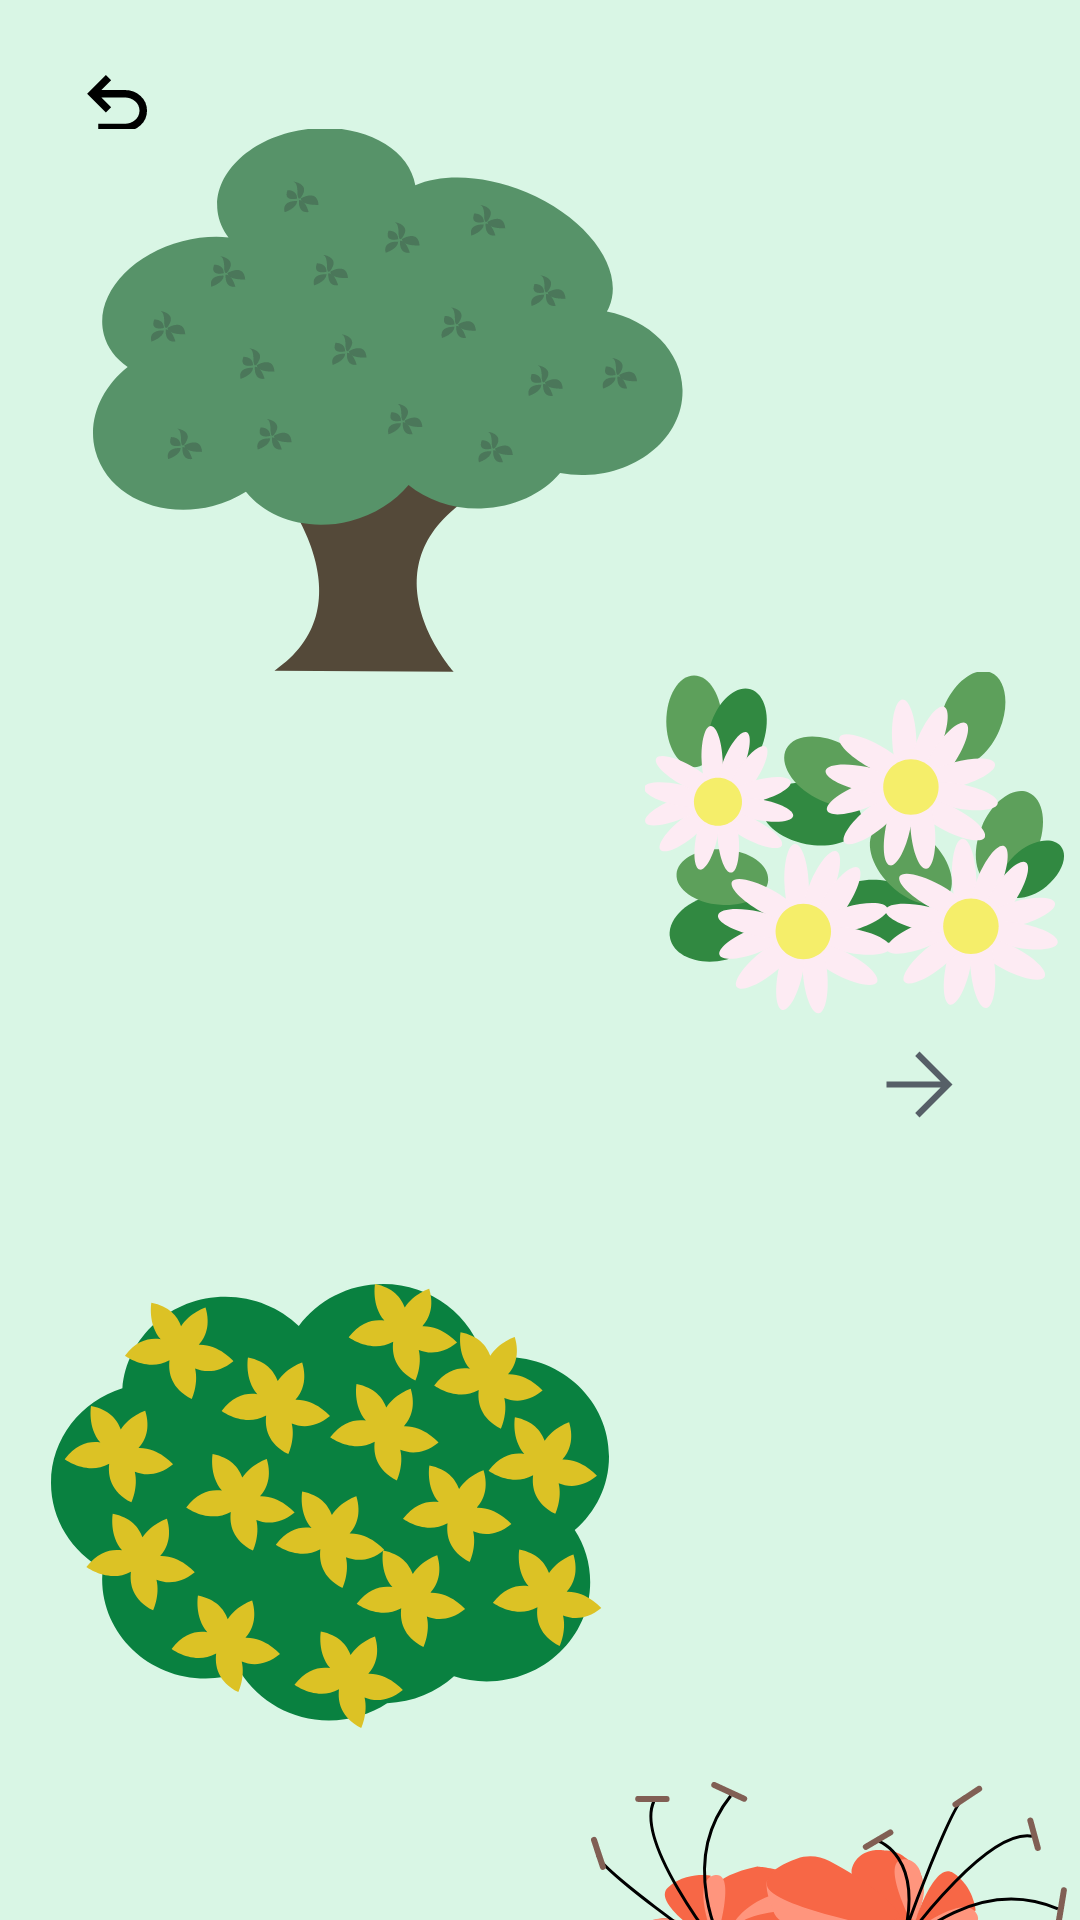

Named icons in this screenshot (1080 x 1920) and their centers, (x=x, y=y):
slidebutton: (x=919, y=1084)
undo: (x=117, y=102)
